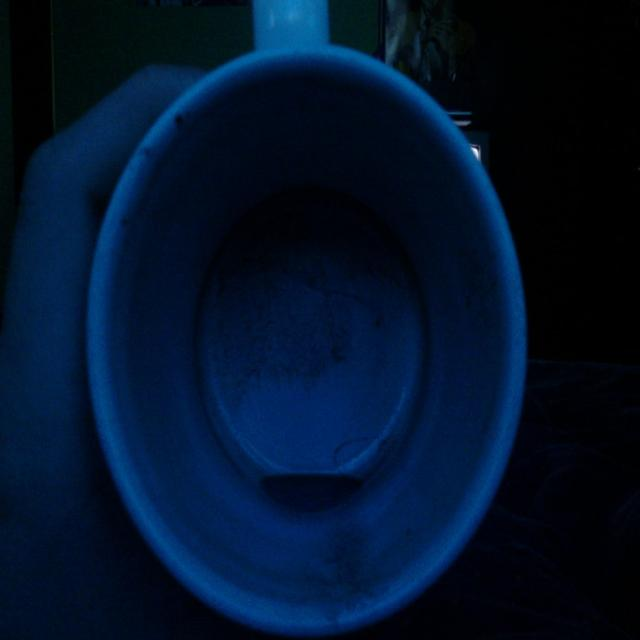Cup: (76, 18, 570, 633)
